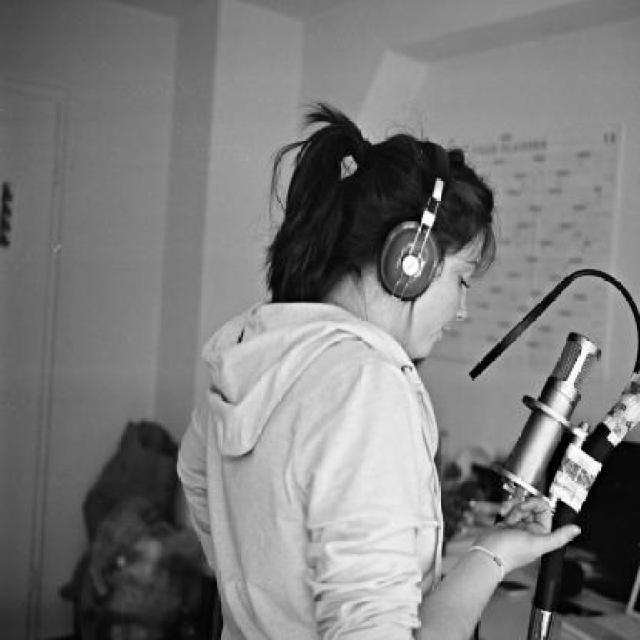earphone: (384, 124, 471, 305)
